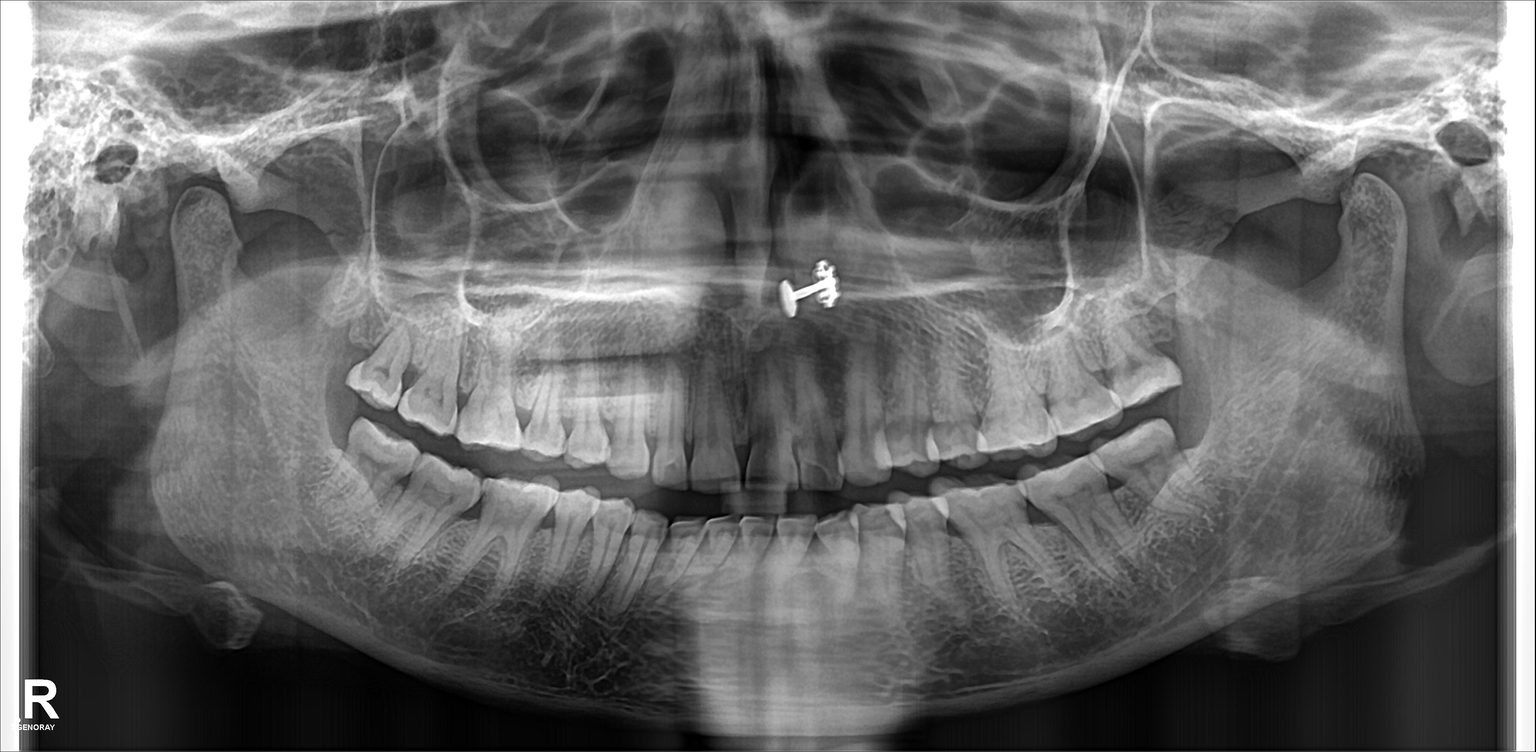Impacted Third Molar: (1104, 434, 1214, 517), (341, 423, 416, 520)
